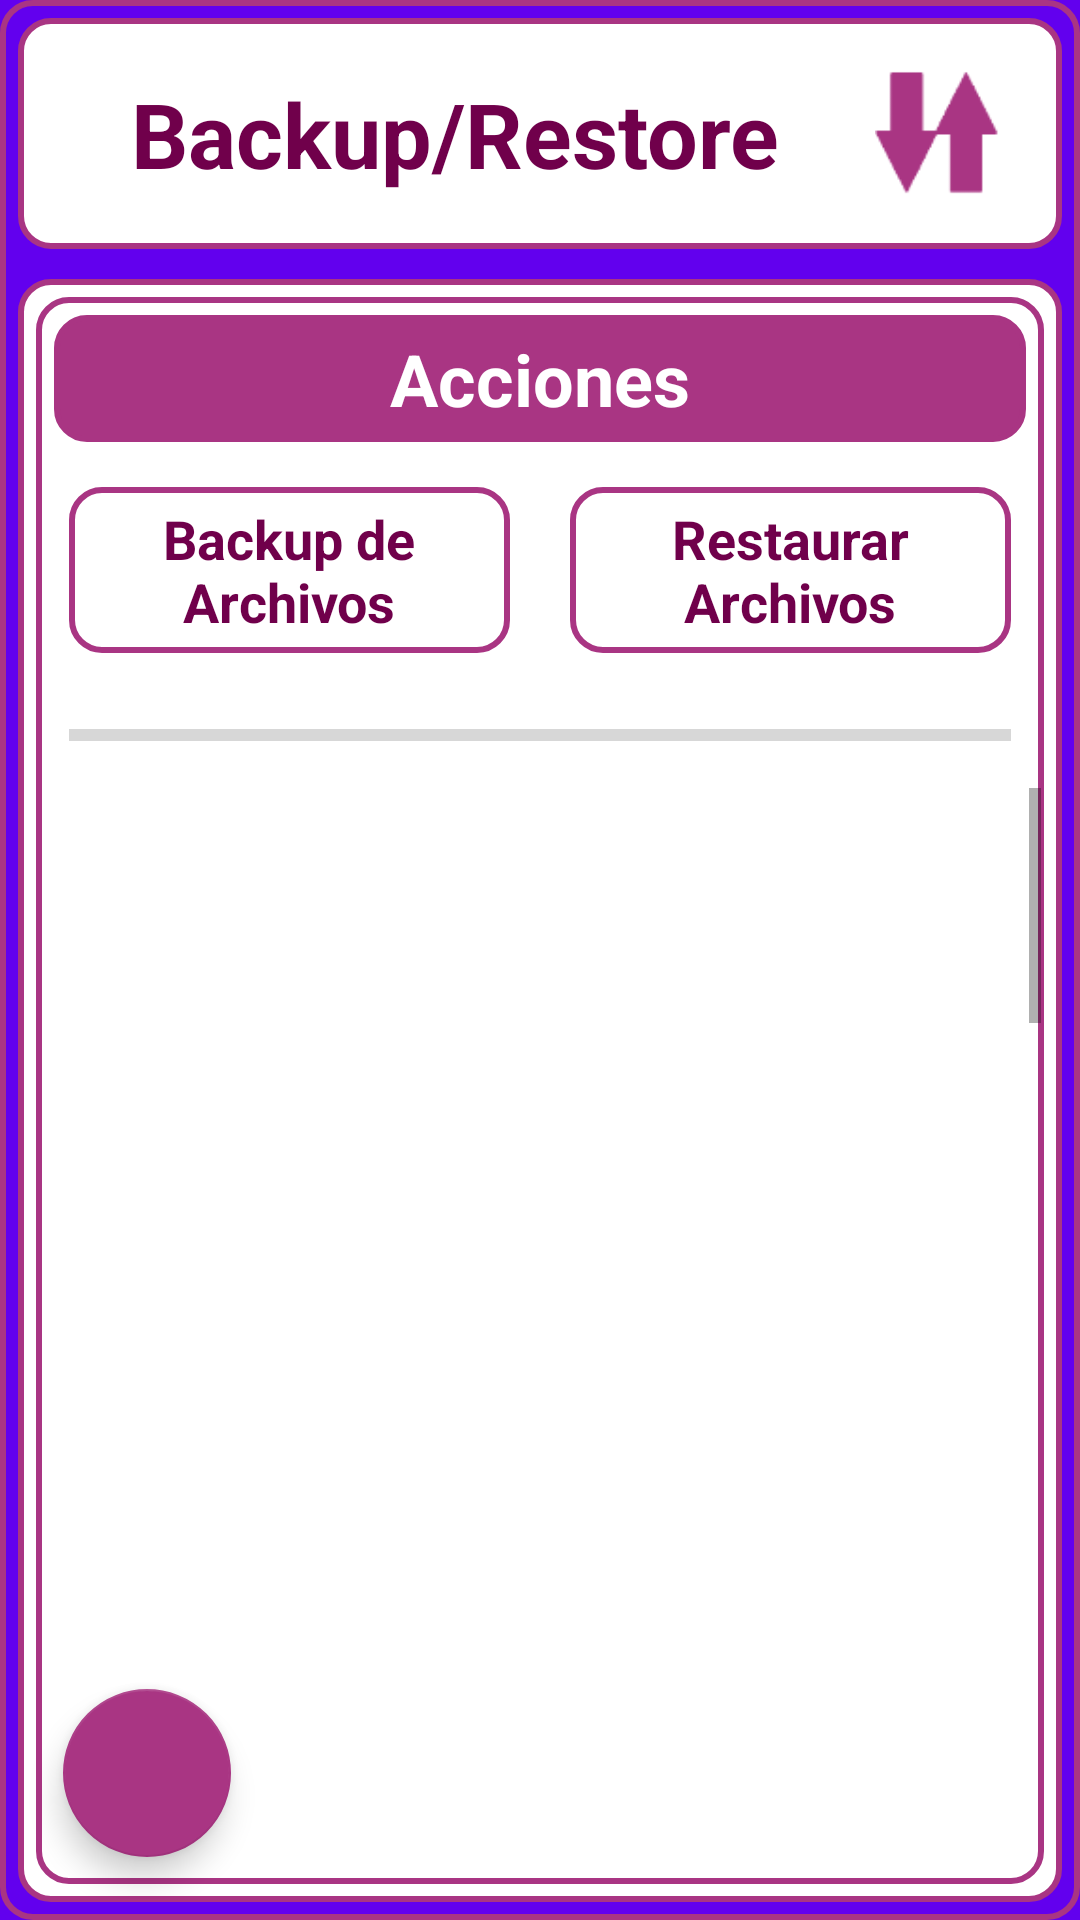

Locate icon controls on the screen. Image size 1080x1920, boxes as (x1, y1, x2, y2).
backup sf: (875, 72, 998, 193)
